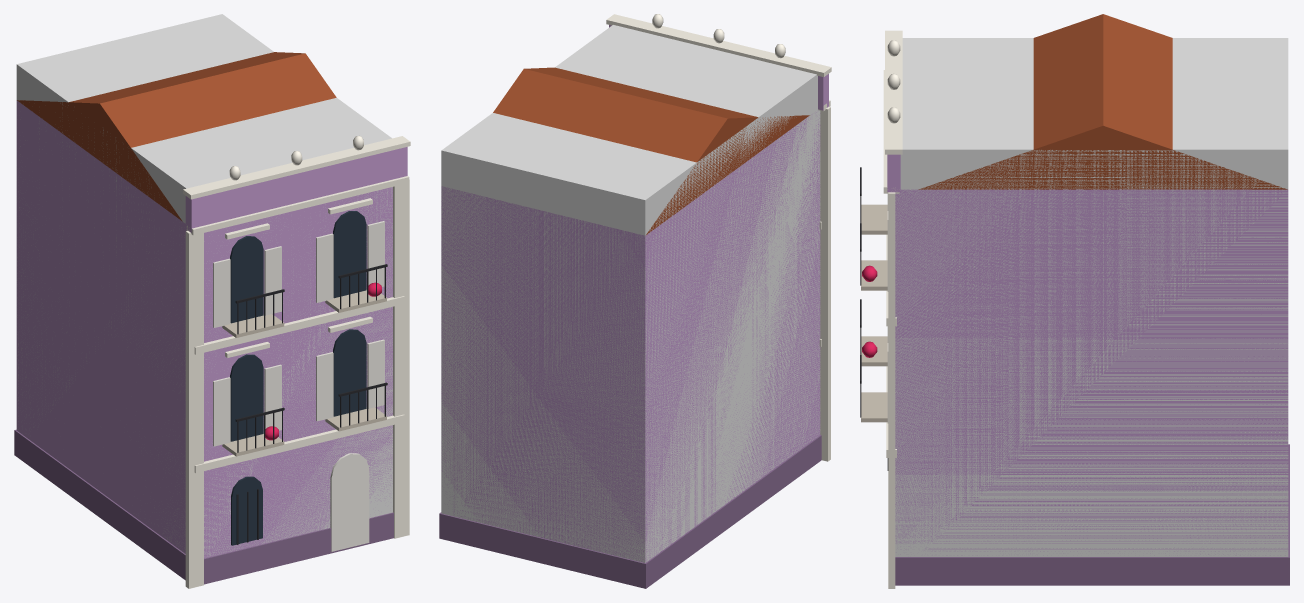
Rendered from sobrado_7.glb.
3 renders of one model, left to right at view 1: azimuth 30°, elevation 25°; view 2: azimuth 150°, elevation 25°; view 3: azimuth 270°, elevation 25°, orthographic. The views are drawn at different scales.
Visible parts, largest first — view 1: sobrado_7_Malla, COL_0; view 2: sobrado_7_Malla, COL_0; view 3: sobrado_7_Malla, COL_0.
Boxes of the visible parts, x1,y1,x2,y2 form: sobrado_7_Malla: (14, 52, 410, 588); COL_0: (16, 14, 392, 556); sobrado_7_Malla: (439, 14, 831, 588); COL_0: (441, 25, 820, 562); sobrado_7_Malla: (860, 14, 1289, 588); COL_0: (895, 38, 1288, 556).
Size of the model in its own units: 6.44 by 11.5 by 9.76.
